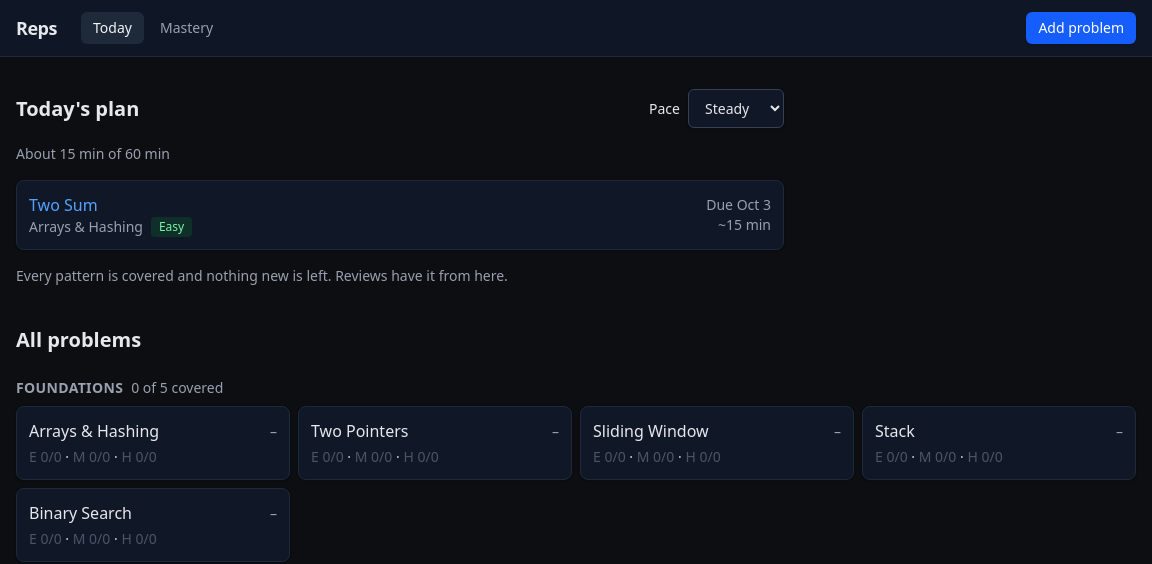
Test: the add-problem form has its own page, reached from the nav
Expected: the heading "Today's plan" is shown, 16,94 -> 139,122
Expected: the heading "Add a problem" is not shown
Click the link "Add problem". click: [1081, 28]
box: 1026,12 -> 1136,44
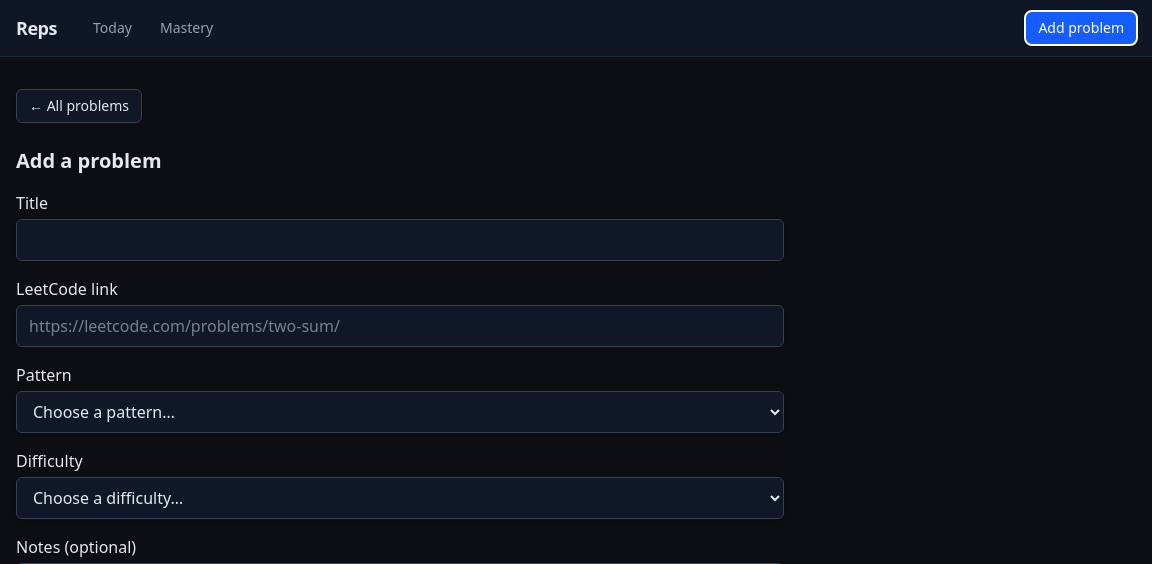
Now the heading "Add a problem" is shown, box 16,147 -> 162,174
